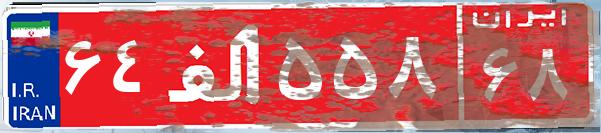4: (110, 28, 158, 105)
5: (273, 28, 330, 110), (330, 28, 385, 110)
6: (57, 26, 110, 107), (475, 38, 525, 113)
8: (385, 28, 445, 110), (525, 38, 570, 115)
الف: (158, 15, 273, 115)
